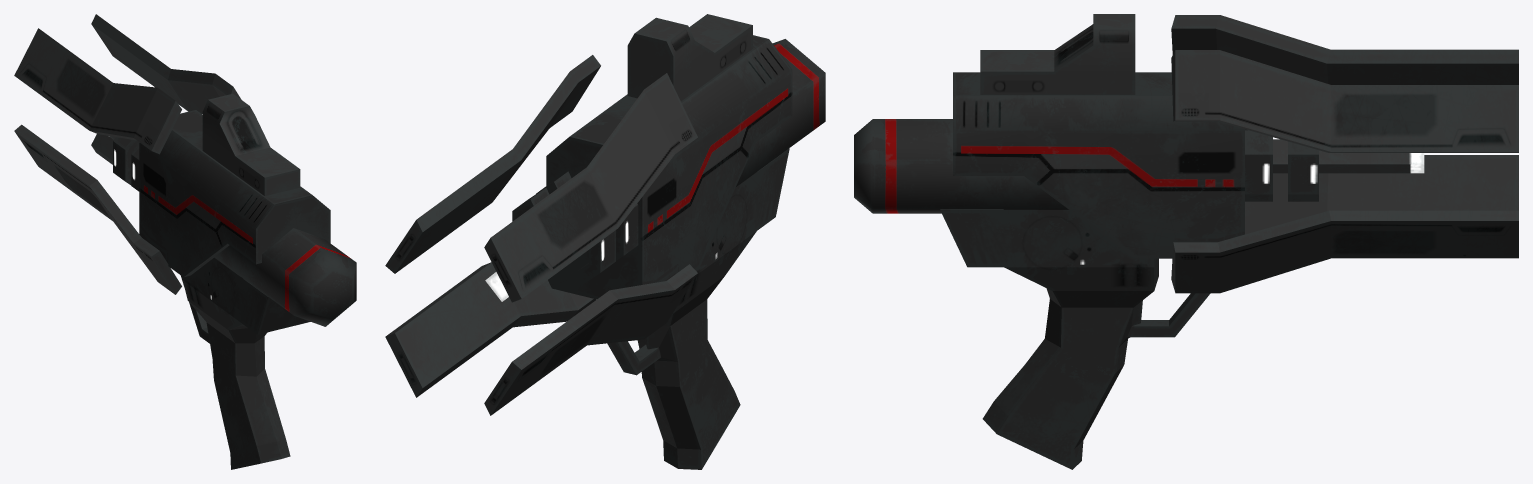
Rendered from IG_Gun_StormBoss_Fire.fbx.
The picture shows the model from 3 angles, left to right: view 1: azimuth 30°, elevation 25°; view 2: azimuth 150°, elevation 25°; view 3: azimuth 270°, elevation 25°; orthographic projection. The views are drawn at different scales.
Parts seen in each view (by area): view 1: Sniper_LP; view 2: Sniper_LP; view 3: Sniper_LP.
Part boxes in pixels (x1,y1,x2,y2): Sniper_LP: [14, 14, 356, 469]; Sniper_LP: [385, 14, 825, 469]; Sniper_LP: [854, 14, 1518, 469].
Size of the model in its own units: 0.176 by 0.5569 by 0.7637.
